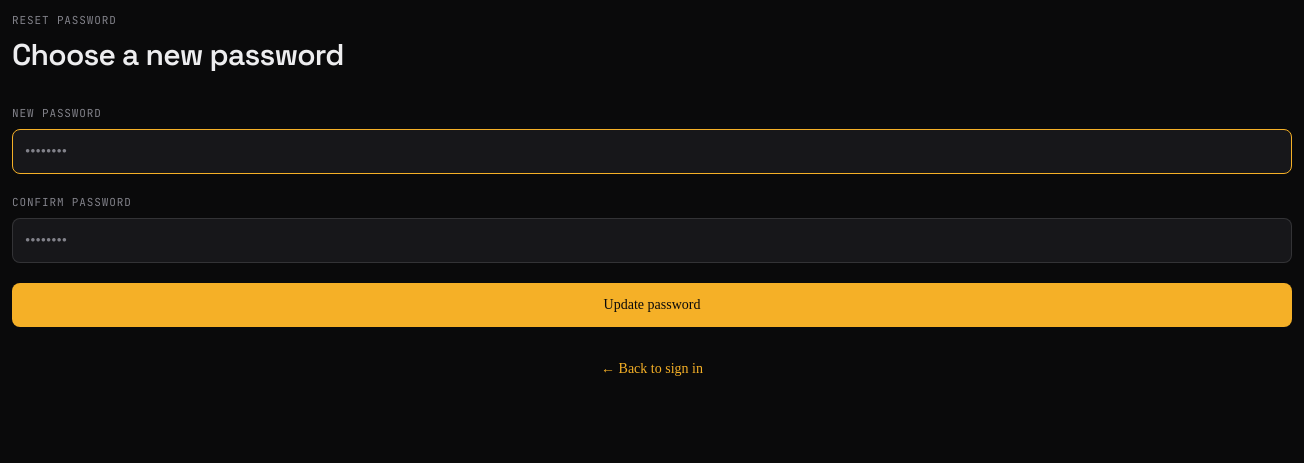
Test case: ResetPasswordPage › shows generic copy for unrecognized server errors, never the raw message
In the password field labelled "New password": (652, 151) [12, 129, 1292, 174], type "long-enough-pw"
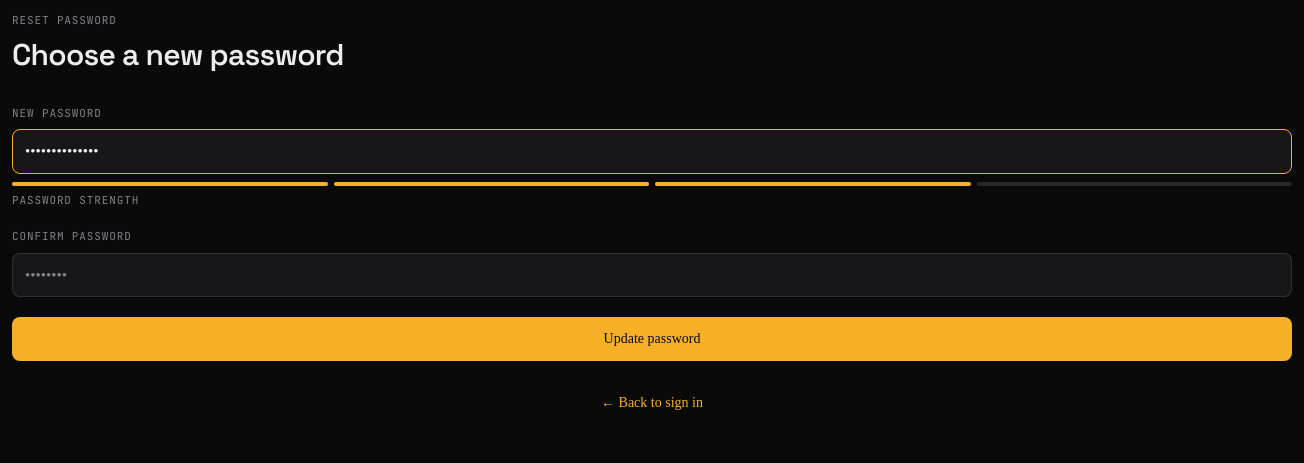
In the password field labelled "Confirm password": (652, 275) [12, 252, 1292, 297], type "long-enough-pw"
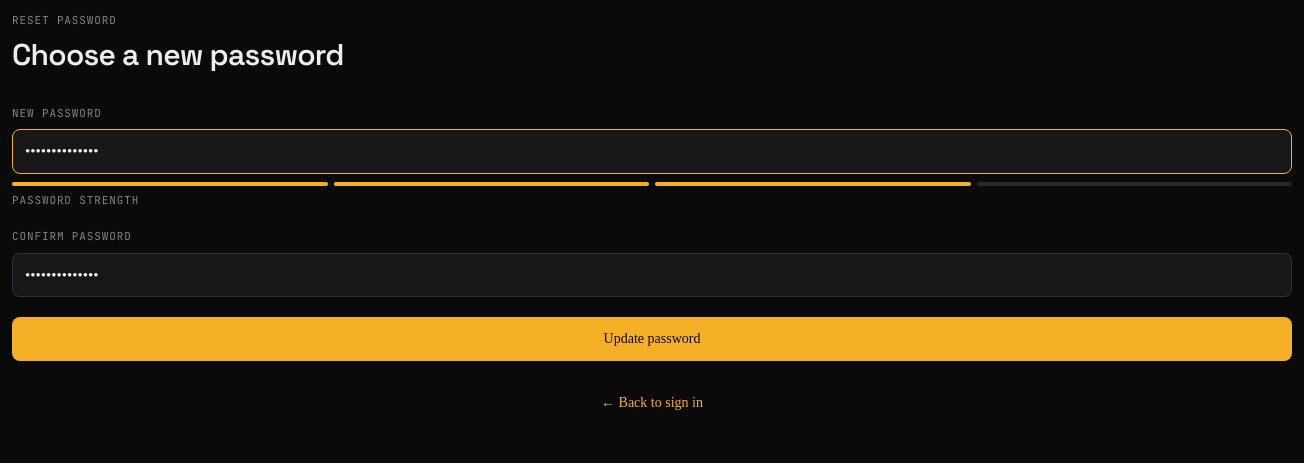
Click the button "Update password": (652, 339) [12, 317, 1292, 361]
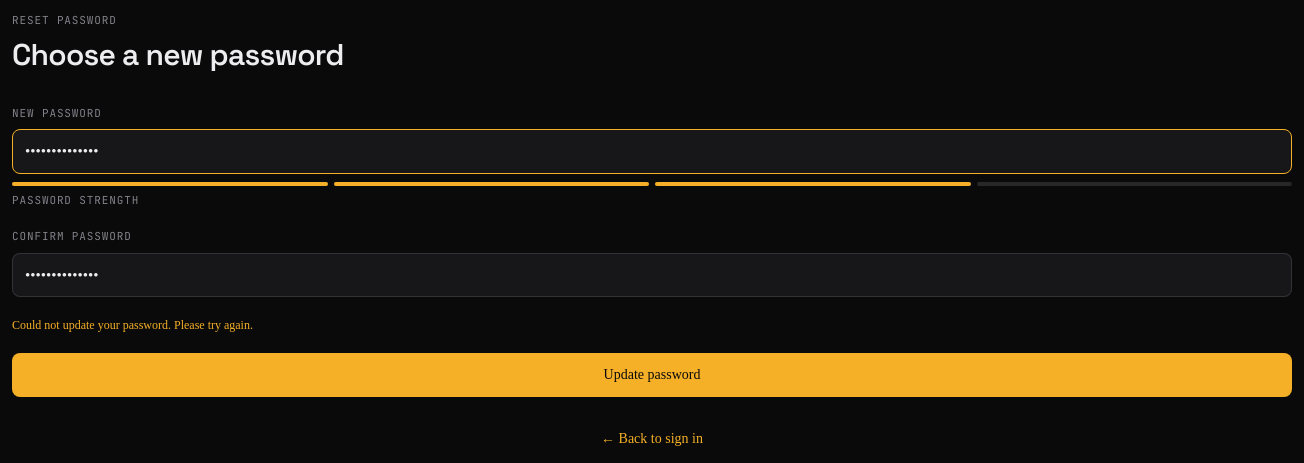
Expected: the text "Could not update your password. Please try again." is shown, [12, 318, 253, 332]
